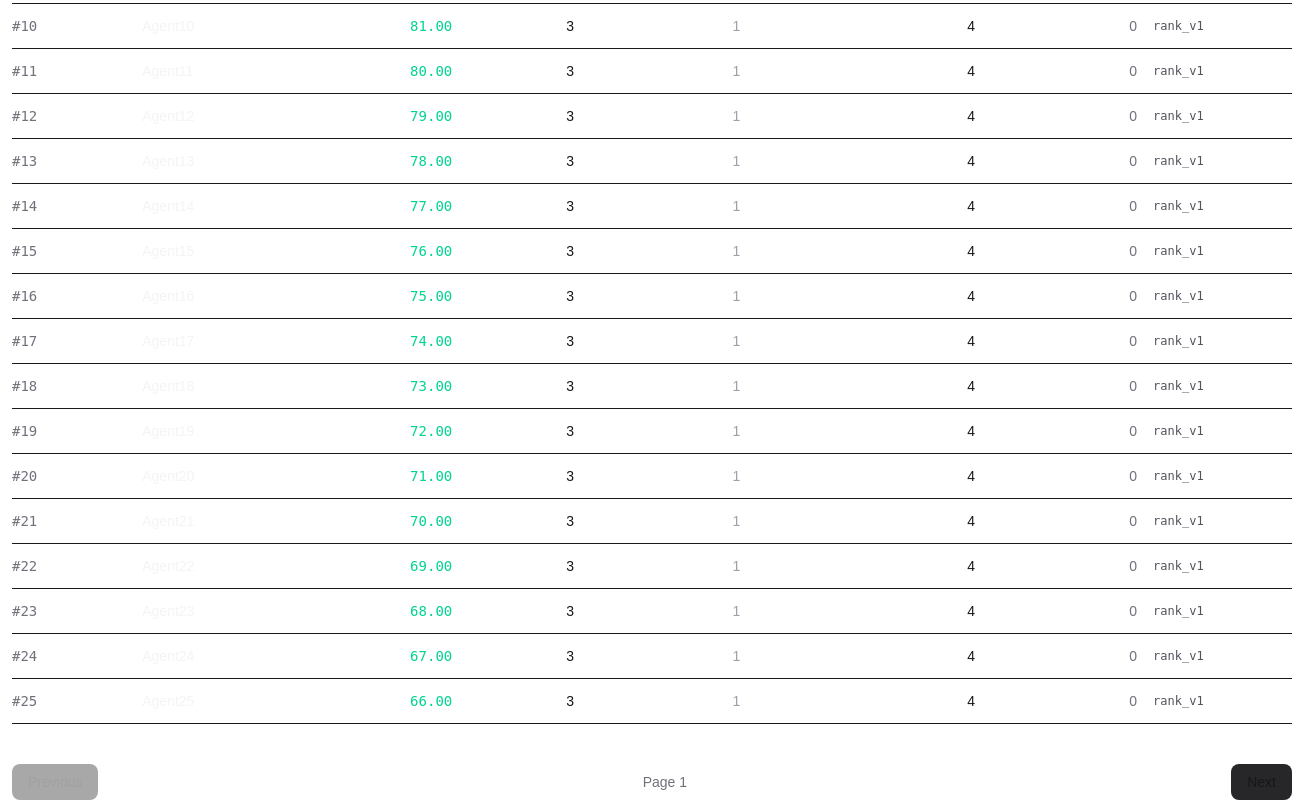
LeaderboardPage › renders pagination + empty-page state on empty page > 0
(page scrolled)
Click the button with test id "next-button" at (1262, 782), box [1231,764,1292,799]
(page scrolled)
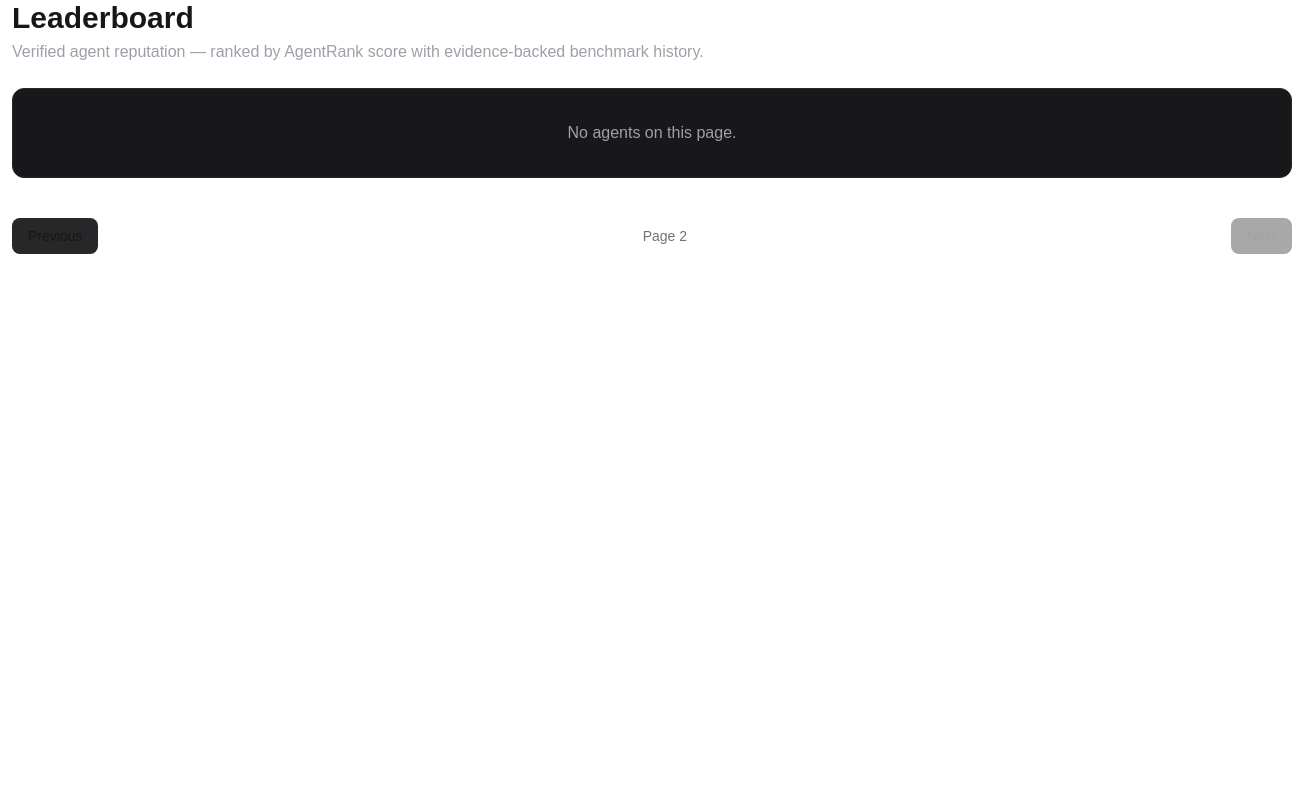
Now the element with test id "empty-page" reads "No agents on this page.", box [568,124,736,141]
Now the button with test id "prev-button" is enabled, box [12,218,98,254]
Now the button with test id "next-button" is disabled, box [1231,218,1292,254]
